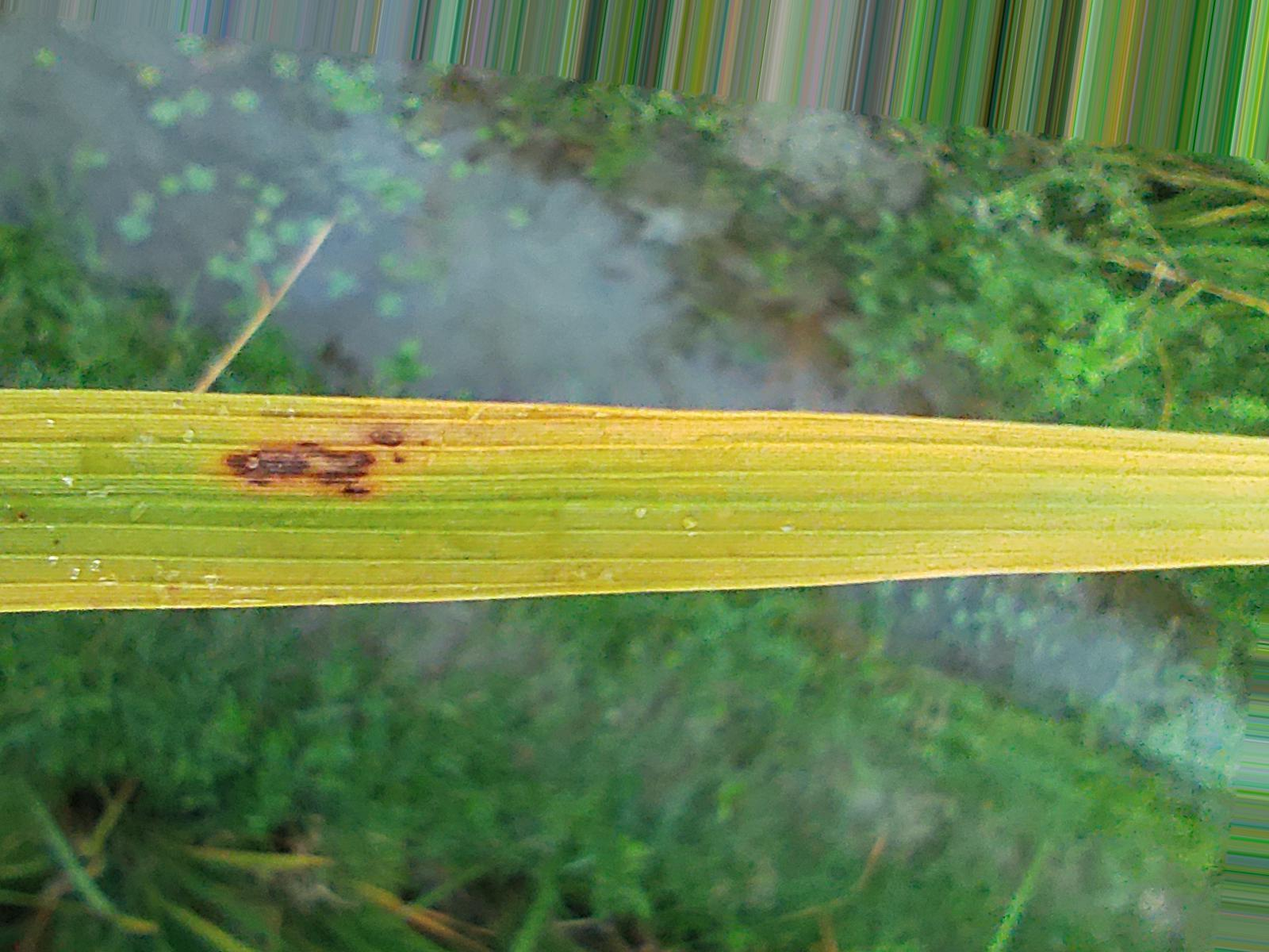LEAF: (0, 389, 1268, 612)
NBS: (370, 430, 404, 446), (393, 455, 409, 465), (419, 439, 430, 449)
